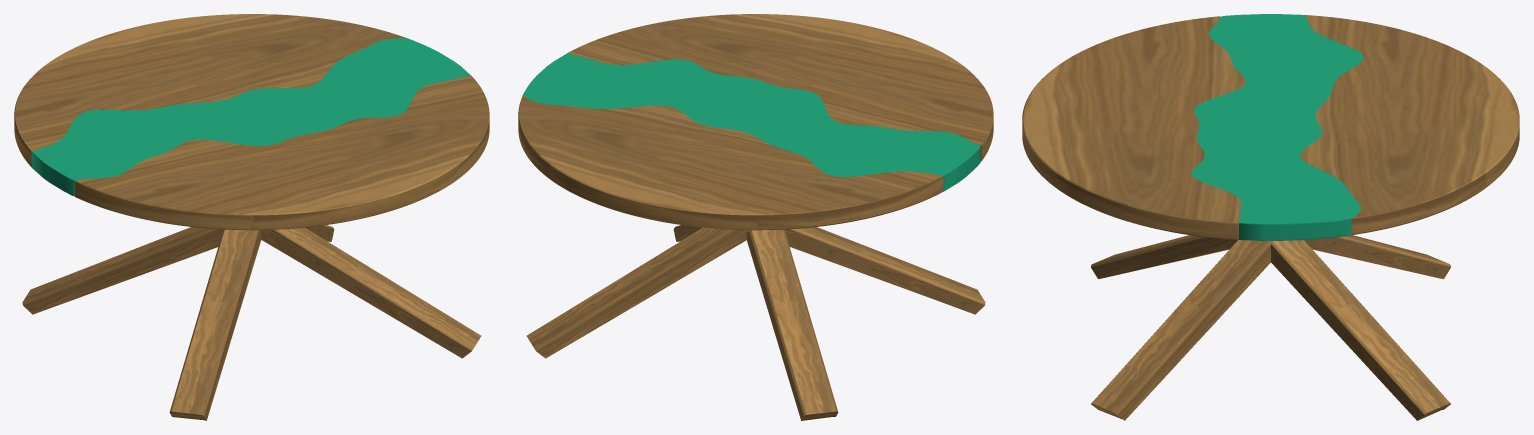
The model's file is round-elm-epoxy-emerald.glb.
3 views of the same model, side by side, from view 1: azimuth 30°, elevation 25°; view 2: azimuth 150°, elevation 25°; view 3: azimuth 270°, elevation 25° (orthographic). The views are drawn at different scales.
Visible parts, largest first — view 1: Wood_Round_EpoxyFar, Wood_Round_EpoxyNear, Resin_Round, Base_Round; view 2: Wood_Round_EpoxyNear, Wood_Round_EpoxyFar, Resin_Round, Base_Round; view 3: Wood_Round_EpoxyFar, Wood_Round_EpoxyNear, Resin_Round, Base_Round.
Part boxes in pixels (x1,y1,x2,y2): Wood_Round_EpoxyFar: (75,75,489,230); Wood_Round_EpoxyNear: (14,14,406,166); Resin_Round: (31,38,470,196); Base_Round: (22,225,481,420); Wood_Round_EpoxyNear: (518,95,943,230); Wood_Round_EpoxyFar: (567,14,993,161); Resin_Round: (523,53,980,191); Base_Round: (526,225,985,420); Wood_Round_EpoxyFar: (1022,16,1245,239); Wood_Round_EpoxyNear: (1300,15,1519,235); Resin_Round: (1191,14,1363,240); Base_Round: (1091,235,1450,420).
Bounding box in the file's own units: 1.52 × 0.762 × 1.52.
2 materials, 1 textured.
